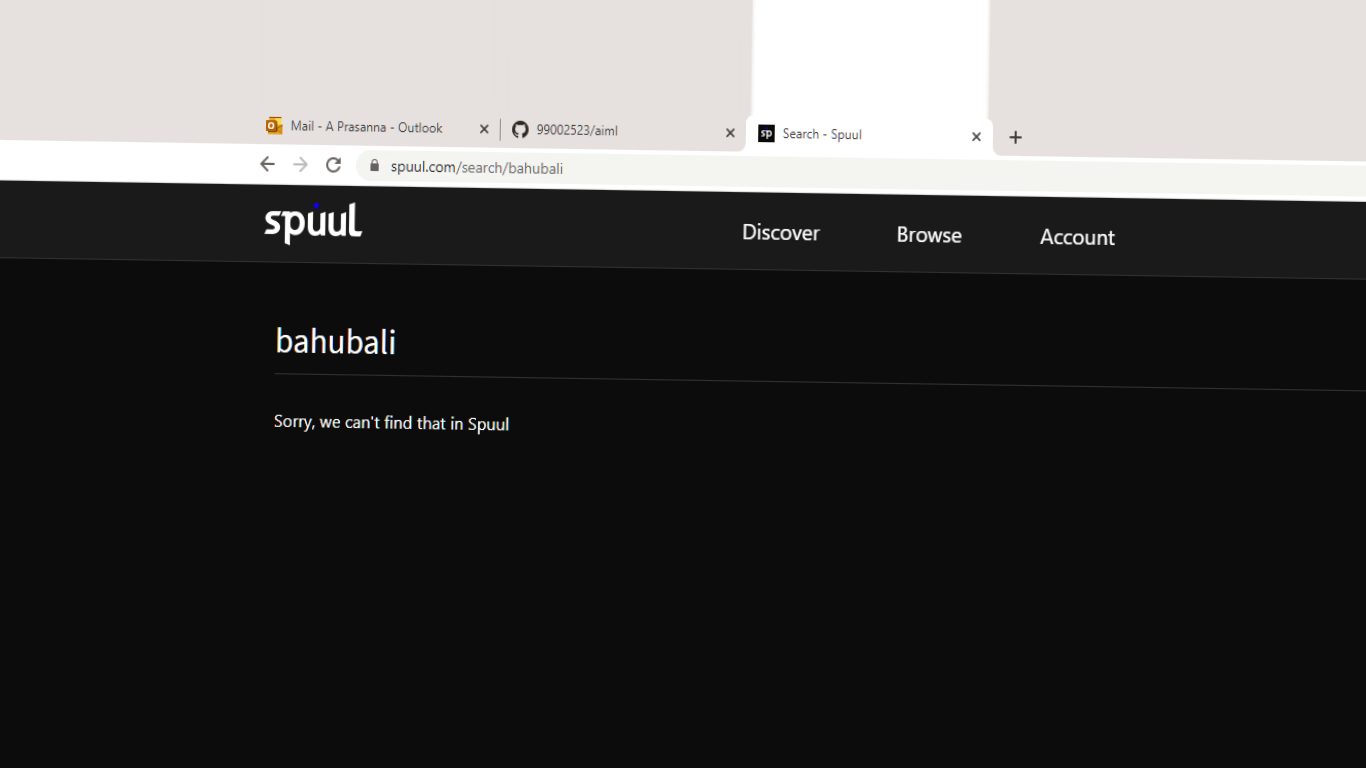myaccountbutton: (1005, 211, 1186, 278)
noresultsfound: (263, 393, 530, 445)
searchtextbox: (242, 279, 1356, 393)
